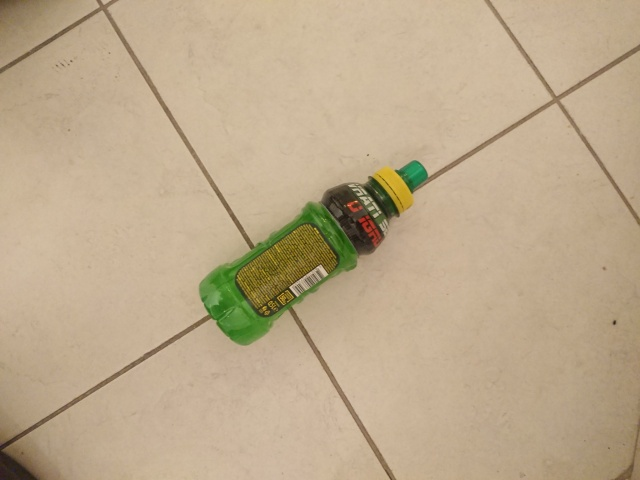Vindi Iso Sport Lemon-Grapefruit 500mL: (196, 158, 430, 348)
